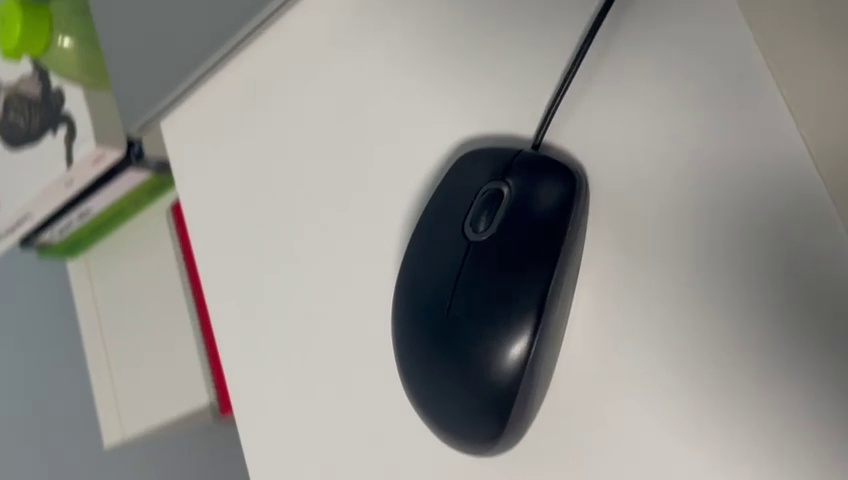objeto: (409, 139, 590, 455)
